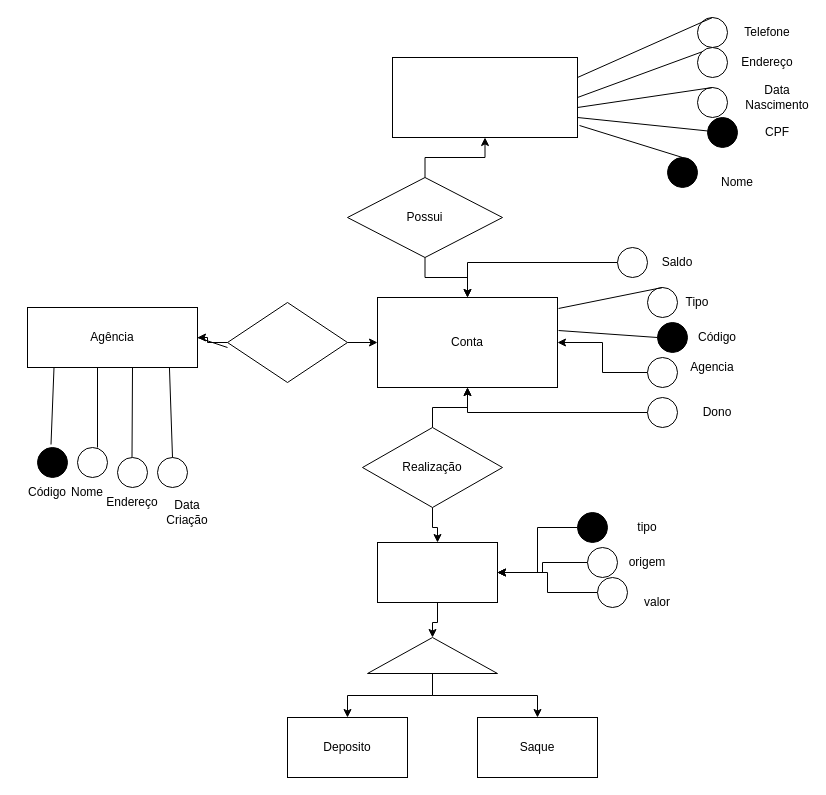
Some shapes in this 826 by 795 pixel diagram are drawn without their labels. The centre of each missing label's shape, as x and y in pixels:
"Cliente" goes at (x=485, y=97).
"Cria" goes at (x=287, y=342).
"Transação" goes at (x=437, y=572).
